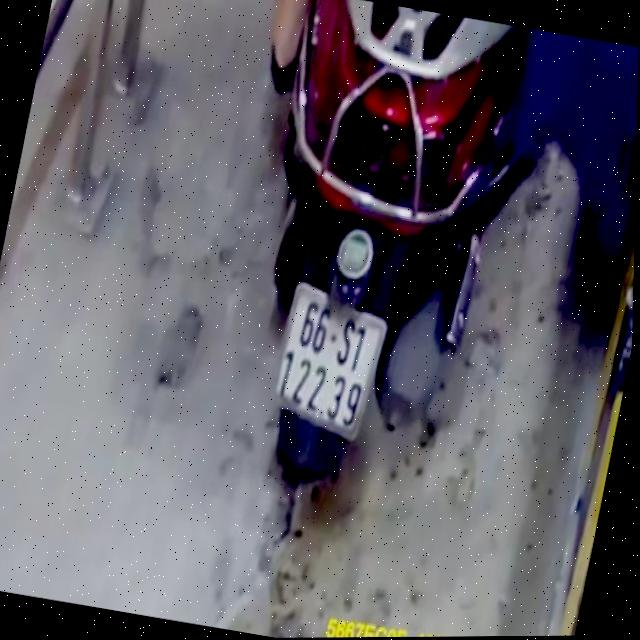motorcycle: (203, 0, 535, 517)
plate: (256, 271, 401, 450)
